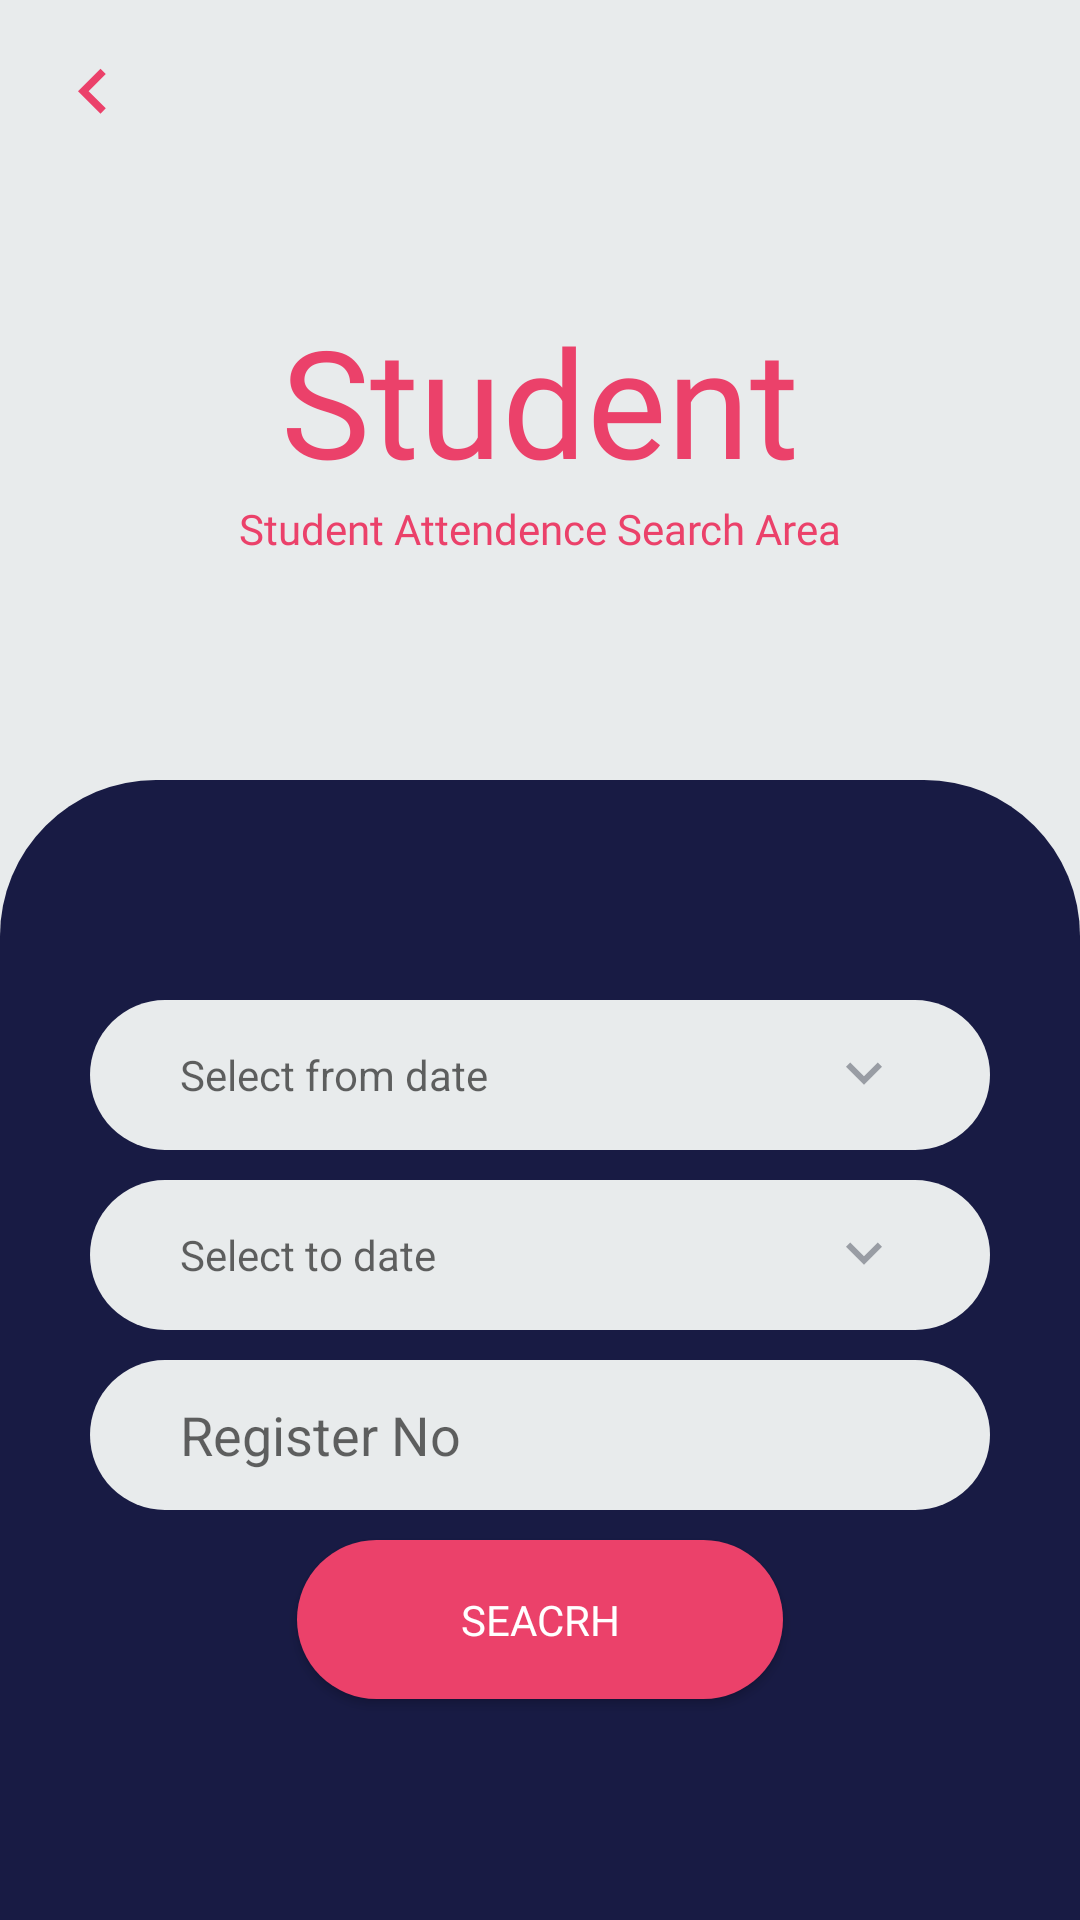

Screen size 1080w x 1920h. Icon name, then its box in pixels as [x1, y1, x2, y2]:
arrow back: [78, 69, 106, 114]
